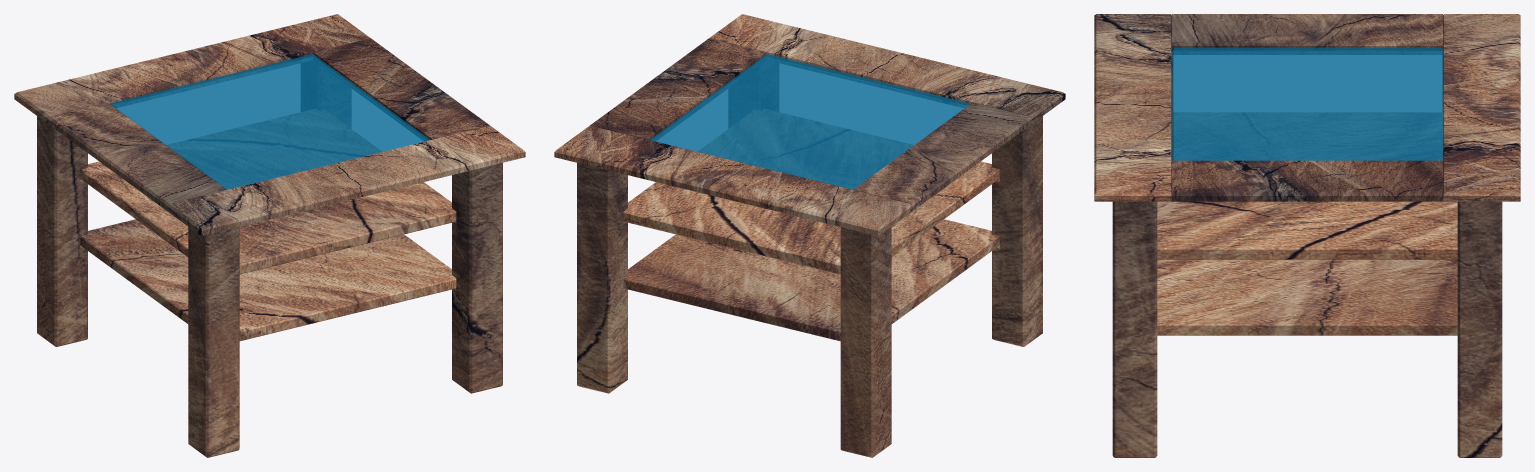
Rendered from Wood_Table.dae.
The picture shows the model from 3 angles, left to right: view 1: azimuth 30°, elevation 25°; view 2: azimuth 150°, elevation 25°; view 3: azimuth 270°, elevation 25°; orthographic projection. The views are drawn at different scales.
Parts seen in each view (by area): view 1: Wood_Table; view 2: Wood_Table; view 3: Wood_Table.
Part boxes in pixels (x1=…): Wood_Table: x1=14, y1=14, x2=525, y2=457; Wood_Table: x1=554, y1=14, x2=1065, y2=457; Wood_Table: x1=1094, y1=14, x2=1520, y2=457.
Size of the model in its own units: 0.6601 by 0.4664 by 0.6601.
2 materials, 1 textured.
